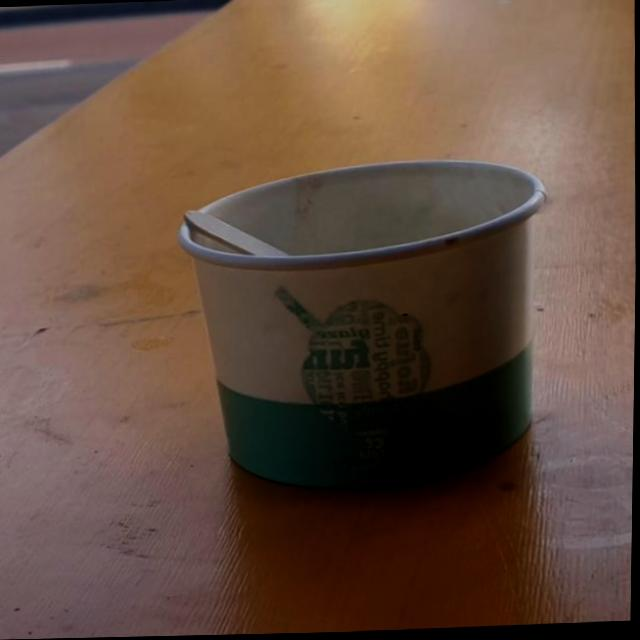Paper: (167, 151, 557, 501)
